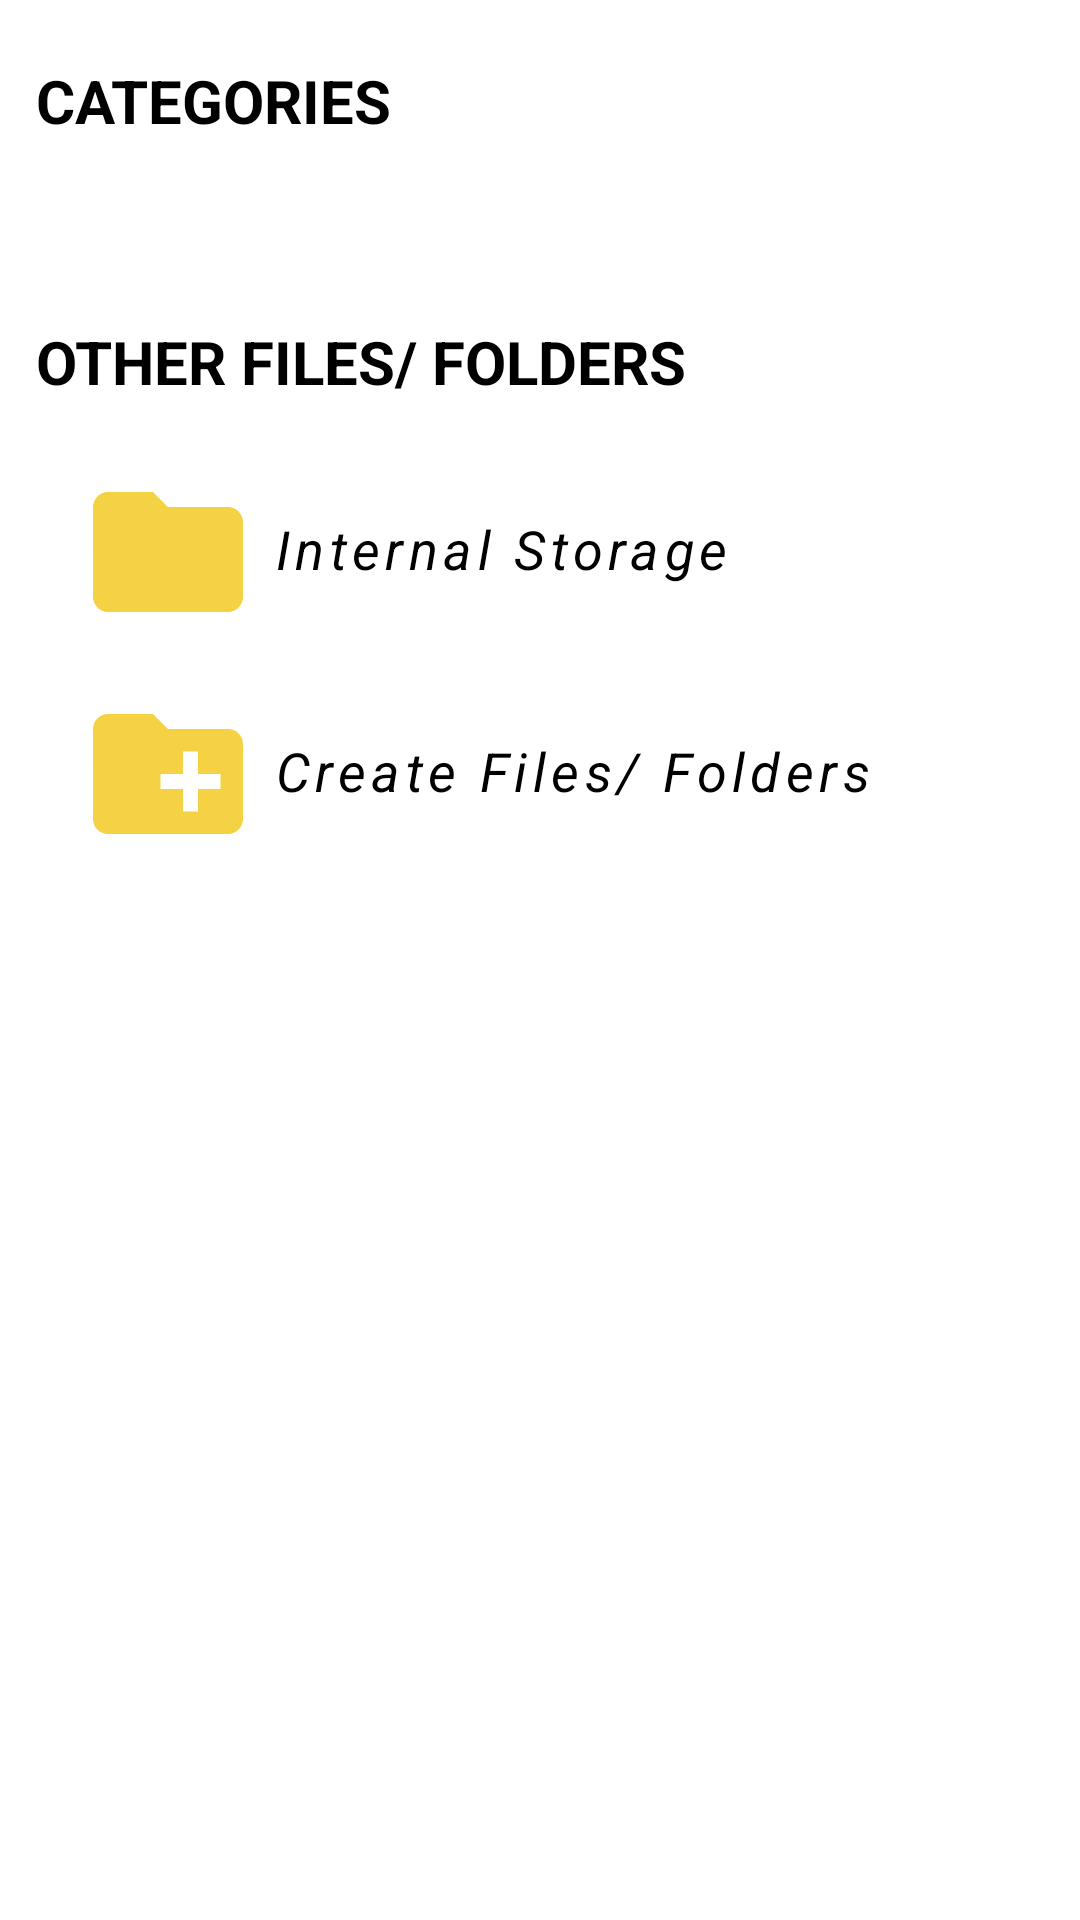

Point at icon controls on the screen. Image size 1080 × 1920, points as point (x, y).
create folder: point (168, 774)
